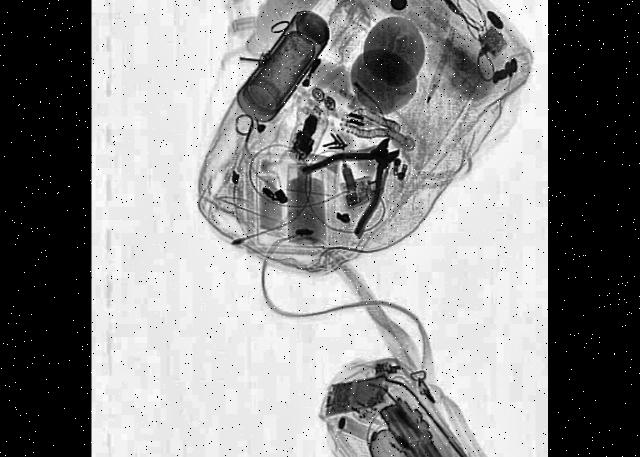Pliers: (302, 92, 413, 254)
